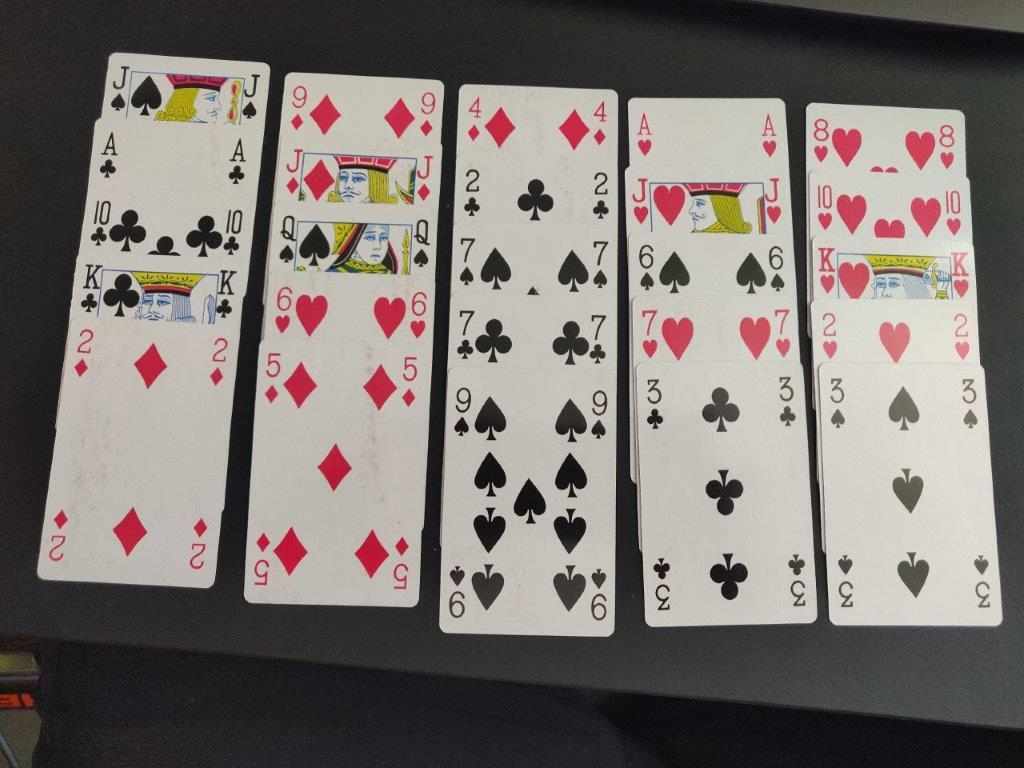10C: (86, 194, 113, 248), (220, 206, 244, 258)
10H: (811, 176, 838, 236), (940, 185, 965, 239)
2C: (460, 165, 485, 220), (587, 168, 611, 223)
2D: (68, 325, 97, 381), (206, 332, 232, 389)
2H: (948, 309, 975, 366), (817, 308, 844, 362)
3C: (643, 374, 668, 433), (774, 373, 799, 429)
3S: (822, 370, 853, 436), (957, 373, 982, 431)
4D: (461, 93, 485, 144), (590, 99, 608, 146)
5D: (259, 346, 285, 407), (398, 350, 423, 409)
6H: (271, 284, 296, 340), (409, 286, 428, 340)
6S: (764, 242, 789, 296), (634, 240, 658, 293)
7C: (586, 309, 610, 368), (455, 307, 477, 364)
7H: (637, 304, 662, 364), (769, 304, 793, 363)
7S: (456, 232, 479, 292), (588, 238, 613, 290)
8H: (809, 111, 834, 166), (935, 118, 959, 175)
9D: (286, 84, 309, 137), (416, 90, 436, 138)
9S: (585, 386, 610, 446), (450, 384, 474, 439)
AC: (97, 128, 121, 183), (226, 135, 249, 187)
AH: (632, 107, 657, 162), (756, 109, 781, 159)
JD: (412, 154, 437, 205), (284, 146, 305, 198)
JH: (628, 175, 656, 233), (762, 175, 785, 228)
JS: (106, 59, 132, 114), (237, 71, 262, 125)
KC: (213, 266, 238, 325), (80, 260, 101, 314)
KH: (944, 248, 974, 301), (815, 242, 842, 297)
QS: (273, 212, 301, 269), (410, 217, 434, 273)
